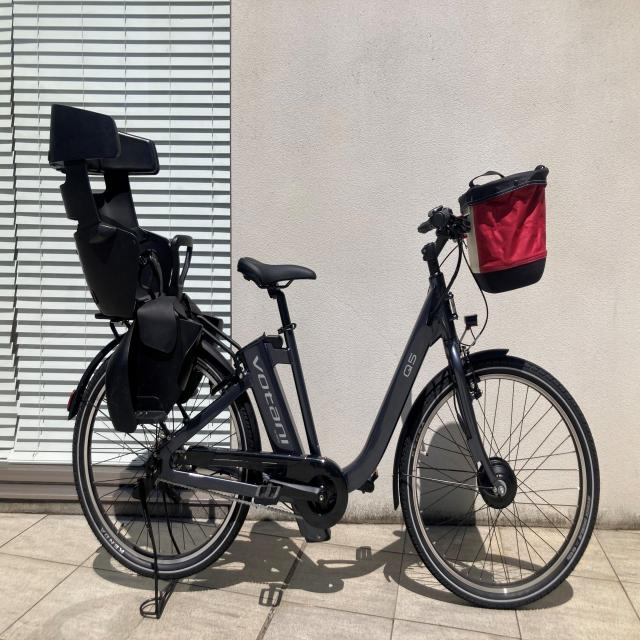childseat: (43, 97, 225, 432)
